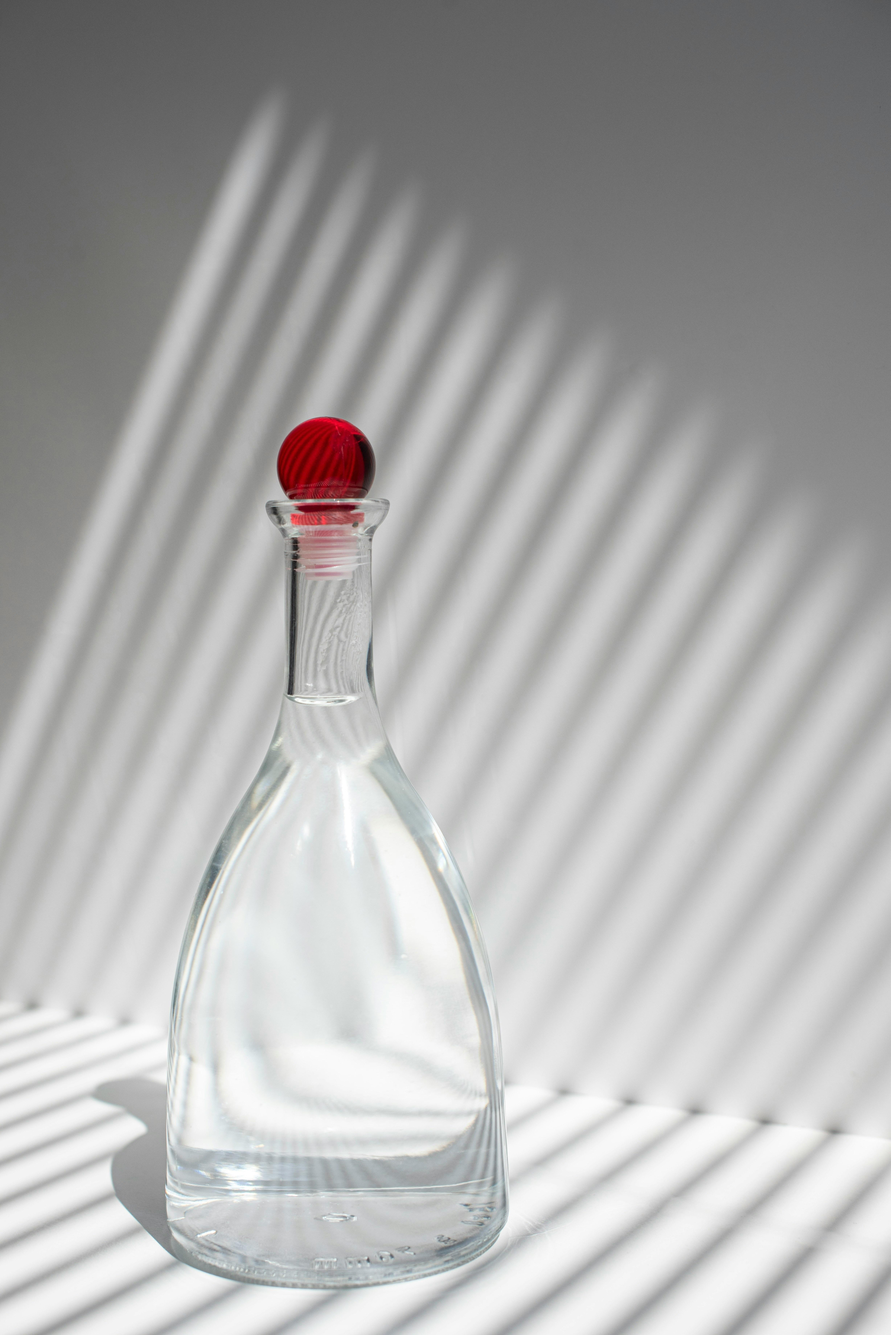Bottle-Detection: (131, 468, 541, 1318)
